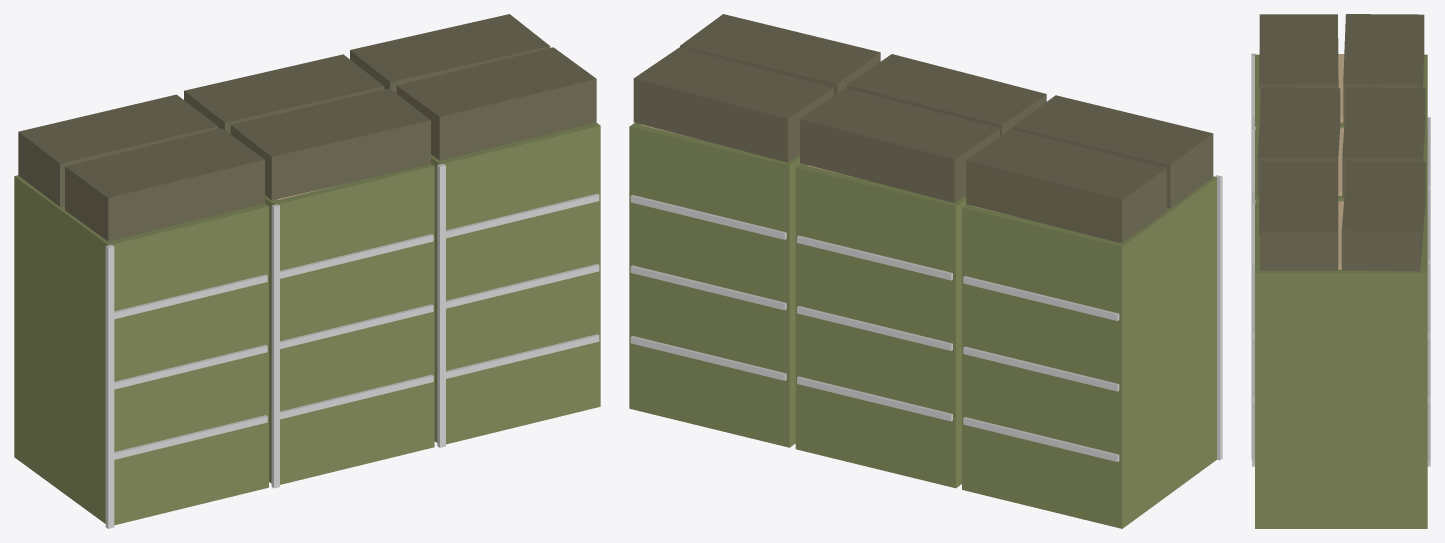
File: SM_HescoCorto3_v3_RemateSacos_e0_Sano_LOD0.fbx
The picture shows the model from 3 angles, left to right: view 1: azimuth 30°, elevation 25°; view 2: azimuth 150°, elevation 25°; view 3: azimuth 270°, elevation 25°; orthographic projection. The views are drawn at different scales.
Parts seen in each view (by area): view 1: SM_hesco_piezas_v92_LOD0; view 2: SM_hesco_piezas_v92_LOD0; view 3: SM_hesco_piezas_v92_LOD0.
Part boxes in pixels (box(x1,y1,x2,y2)): SM_hesco_piezas_v92_LOD0: box(14, 14, 600, 528); SM_hesco_piezas_v92_LOD0: box(629, 14, 1222, 528); SM_hesco_piezas_v92_LOD0: box(1251, 14, 1430, 528).
Bounding box in the file's own units: 3.31 × 2.09 × 1.14.
